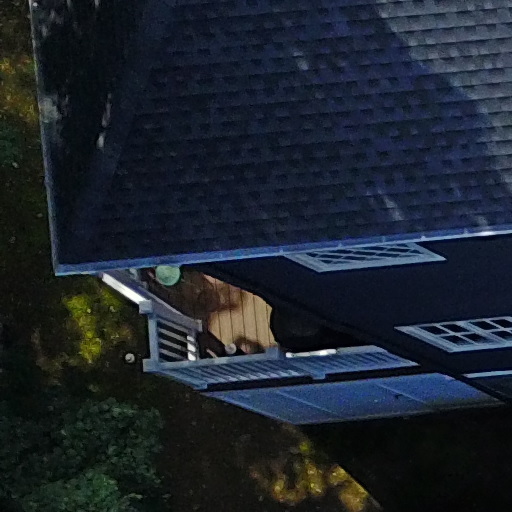porch: (98, 210, 512, 474)
